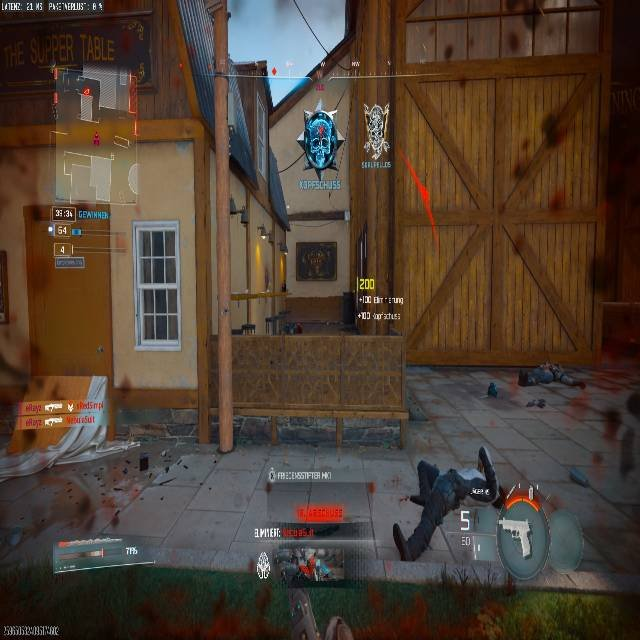player: (90, 451, 153, 531), (297, 107, 341, 178)
